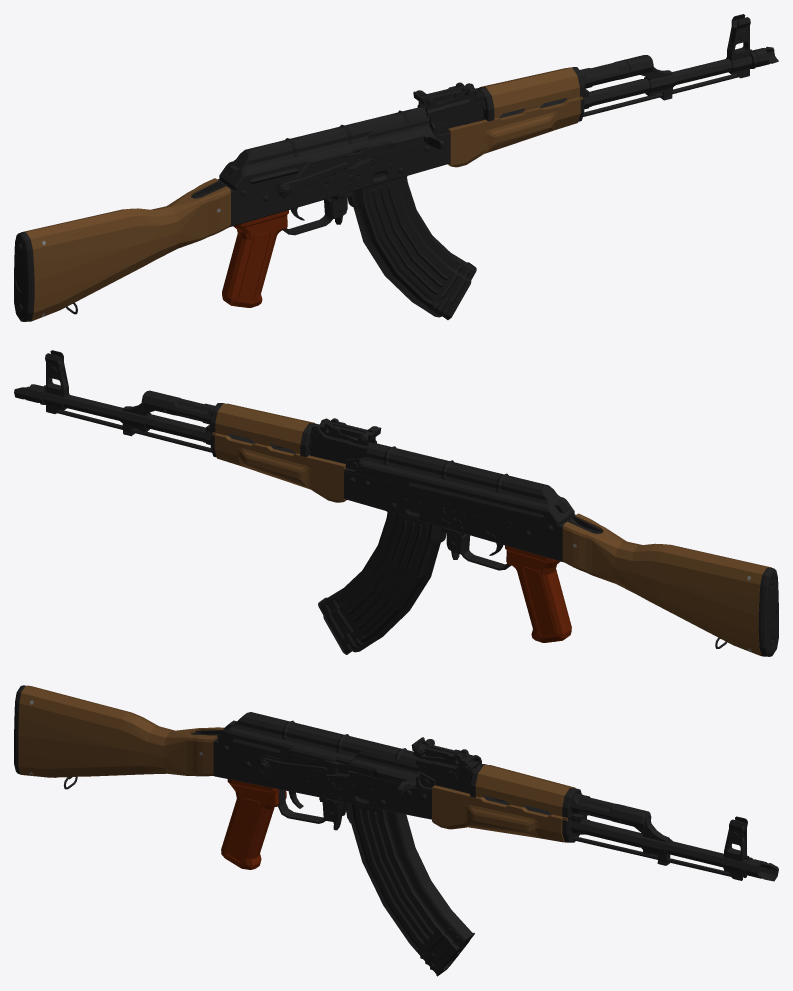
Rendered from low-poly_akm.glb.
3 renders of one model, top to bottom at view 1: azimuth 30°, elevation 25°; view 2: azimuth 150°, elevation 25°; view 3: azimuth 330°, elevation 25°, orthographic.
Visible parts, largest first — view 1: akm stock_1, akm receiver_3, ak 30rnd empty steel mag_14, akm handguard_7, akm dust cover_8, akm barrel_10, akm grip_4, akm bolt_9, akm selector_2; view 2: akm stock_1, akm receiver_3, ak 30rnd empty steel mag_14, akm dust cover_8, akm handguard_7, akm barrel_10, akm grip_4; view 3: akm stock_1, akm receiver_3, ak 30rnd empty steel mag_14, akm handguard_7, akm barrel_10, akm dust cover_8, akm grip_4, akm bolt_9, akm selector_2, akm compensator_5.
Boxes of the visible parts, box(x1,y1,x2,y2) form: akm stock_1: box(14, 178, 230, 321); akm receiver_3: box(191, 60, 629, 235); ak 30rnd empty steel mag_14: box(347, 176, 476, 319); akm handguard_7: box(448, 67, 582, 167); akm dust cover_8: box(219, 106, 427, 190); akm barrel_10: box(448, 14, 752, 128); akm grip_4: box(222, 210, 288, 307); akm bolt_9: box(353, 67, 630, 154); akm selector_2: box(275, 149, 372, 198); akm stock_1: box(562, 513, 778, 656); akm receiver_3: box(165, 396, 602, 570); ak 30rnd empty steel mag_14: box(318, 511, 446, 654); akm dust cover_8: box(360, 442, 574, 526); akm handguard_7: box(212, 403, 346, 502); akm barrel_10: box(43, 350, 345, 464); akm grip_4: box(505, 545, 571, 642); akm stock_1: box(14, 685, 225, 789); akm receiver_3: box(191, 720, 625, 823); ak 30rnd empty steel mag_14: box(345, 802, 474, 976); akm handguard_7: box(432, 764, 575, 842); akm barrel_10: box(438, 785, 760, 880); akm dust cover_8: box(218, 712, 426, 764); akm grip_4: box(221, 779, 286, 869); akm bolt_9: box(337, 751, 620, 815); akm selector_2: box(257, 752, 350, 777); akm compensator_5: box(742, 857, 778, 881).
Bounding box in the file's own units: 8.94 × 2.56 × 0.6313.
